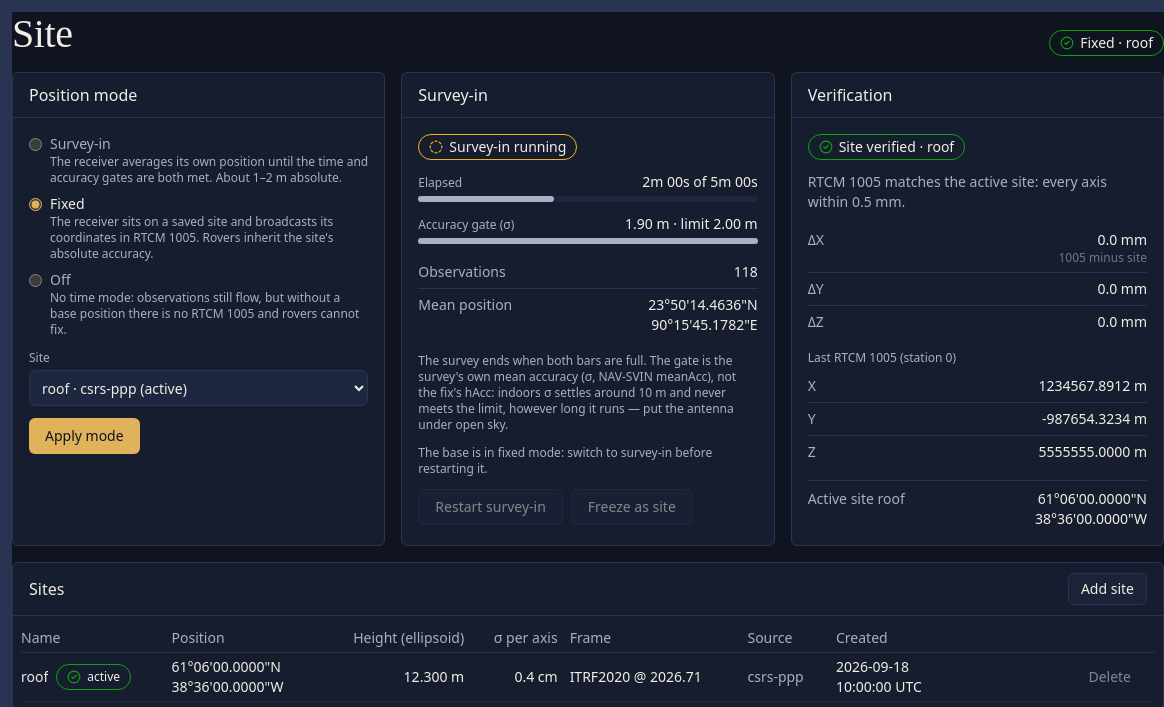
Test case: Site page › shows a PUT mode 409 verbatim under the form
Expected: the radio button labelled "Fixed" is checked, [29,198,42,211]
Click the radio button labelled "Off": (36, 280) [29,274,42,287]
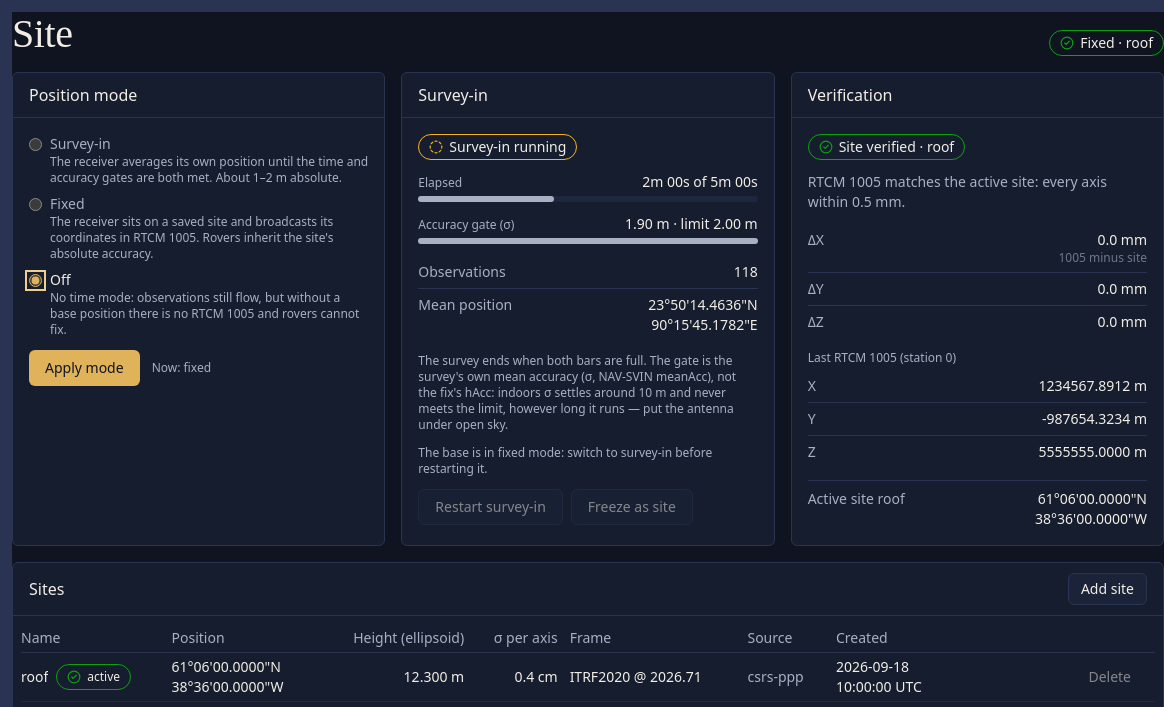
Click the button "Apply mode": (84, 368) [29,350,140,386]
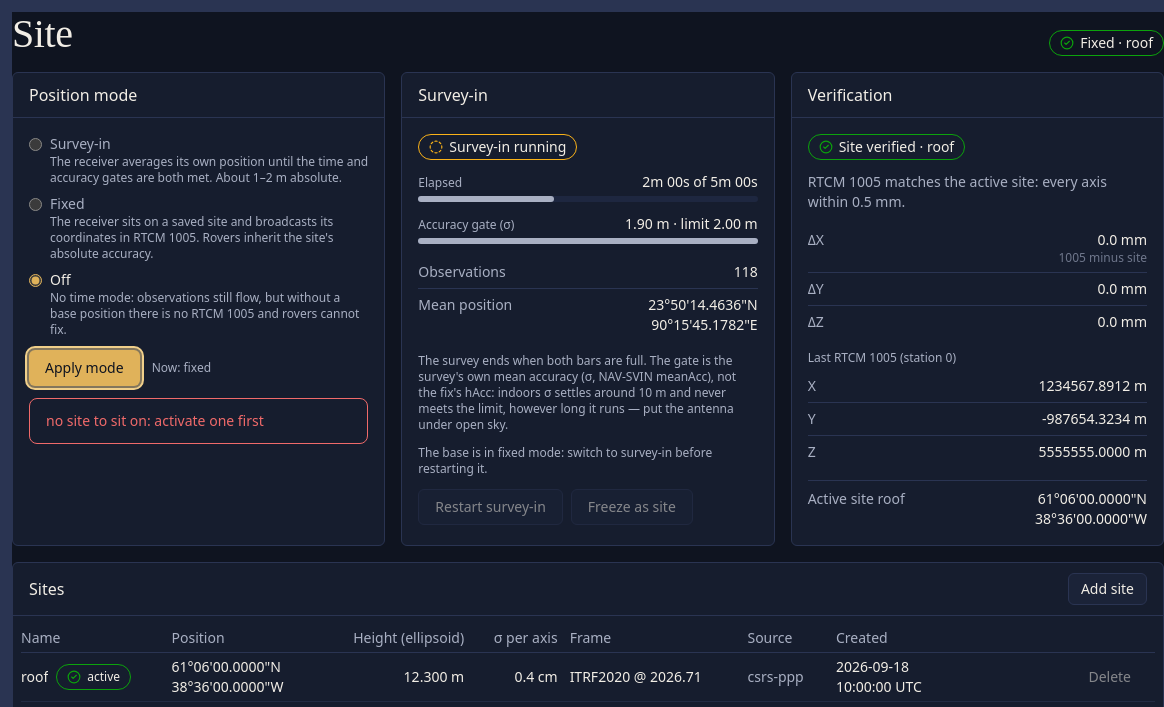
Now the message reads "no site to sit on: activate one first", box [46,411,264,430]
